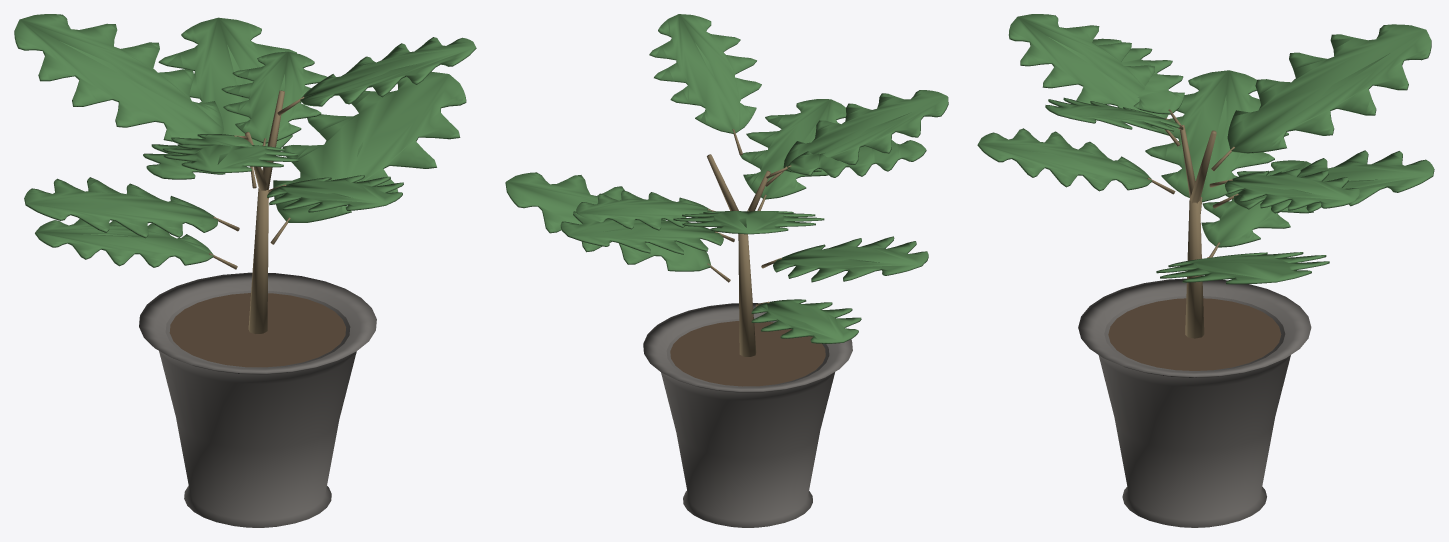
Rendered from PlantFig.fbx.
3 renders of one model, left to right at view 1: azimuth 30°, elevation 25°; view 2: azimuth 150°, elevation 25°; view 3: azimuth 270°, elevation 25°, orthographic. The views are drawn at different scales.
Visible parts, largest first — view 1: FigFoliage, FigPot, FigSoil, FigStems; view 2: FigFoliage, FigPot, FigSoil, FigStems; view 3: FigFoliage, FigPot, FigSoil, FigStems.
Part boxes in pixels (x1,y1,x2,y2): FigFoliage: (14,14,476,267); FigPot: (139,272,376,527); FigSoil: (169,293,345,367); FigStems: (209,90,304,333); FigFoliage: (505,14,948,343); FigPot: (643,303,852,527); FigSoil: (670,321,825,386); FigStems: (707,129,791,356); FigFoliage: (977,14,1434,284); FigPot: (1078,278,1311,527); FigSoil: (1108,298,1281,370); FigStems: (1147,109,1238,338).
Size of the model in its own units: 393 by 392 by 355.
